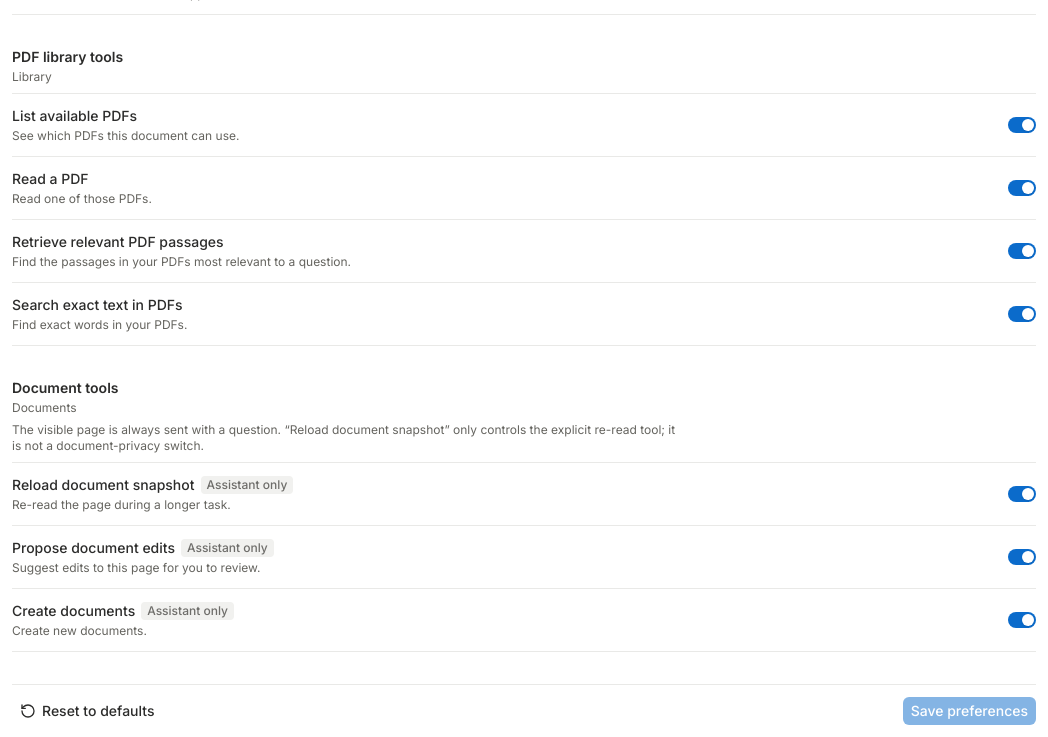
Test: skills and planning preferences › shows unmet tool dependencies immediately and resets feature defaults
This screenshot has width=1048, height=737.
(page scrolled)
What coordinates should you click on to do the following:
click the switch named "Reload document snapshot" in the row of "Re-read the page during a longer task."
I would click on:
 (1022, 494)
Its box is [1008, 486, 1036, 502].
(page scrolled)
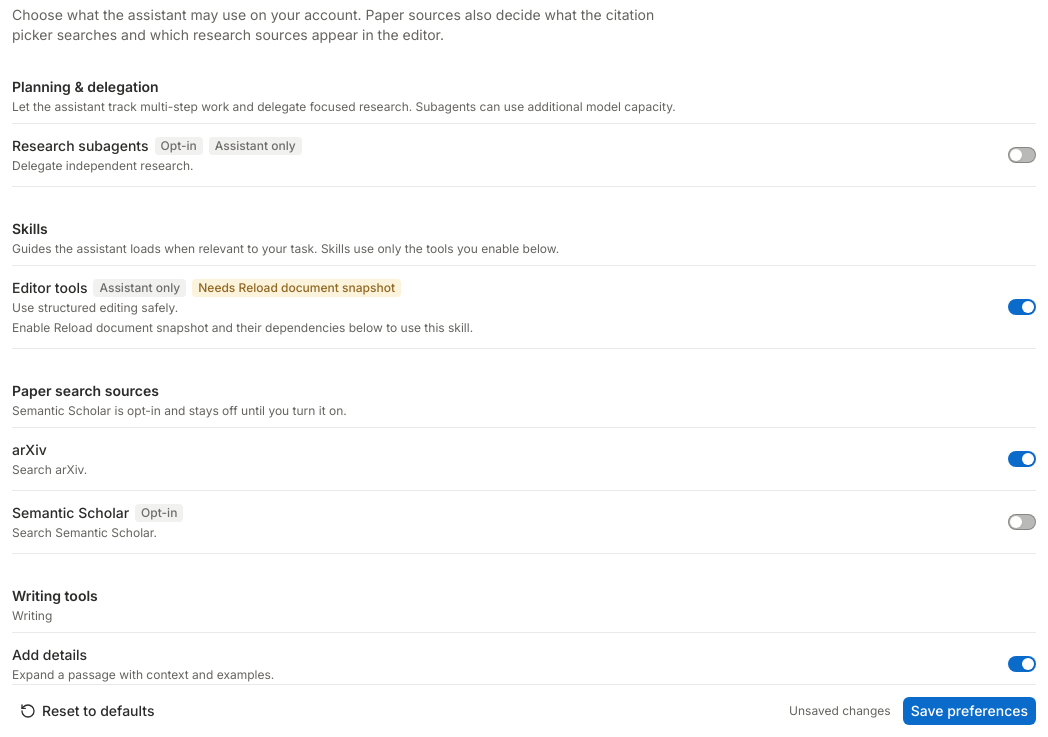
Now the text "Needs Reload document snapshot" is shown, box [192, 279, 401, 297]
What coordinates should you click on to do the following:
click the switch named "Research subagents" in the row of "Delegate independent research."
I would click on:
 (1022, 155)
Its box is [1008, 147, 1036, 163].
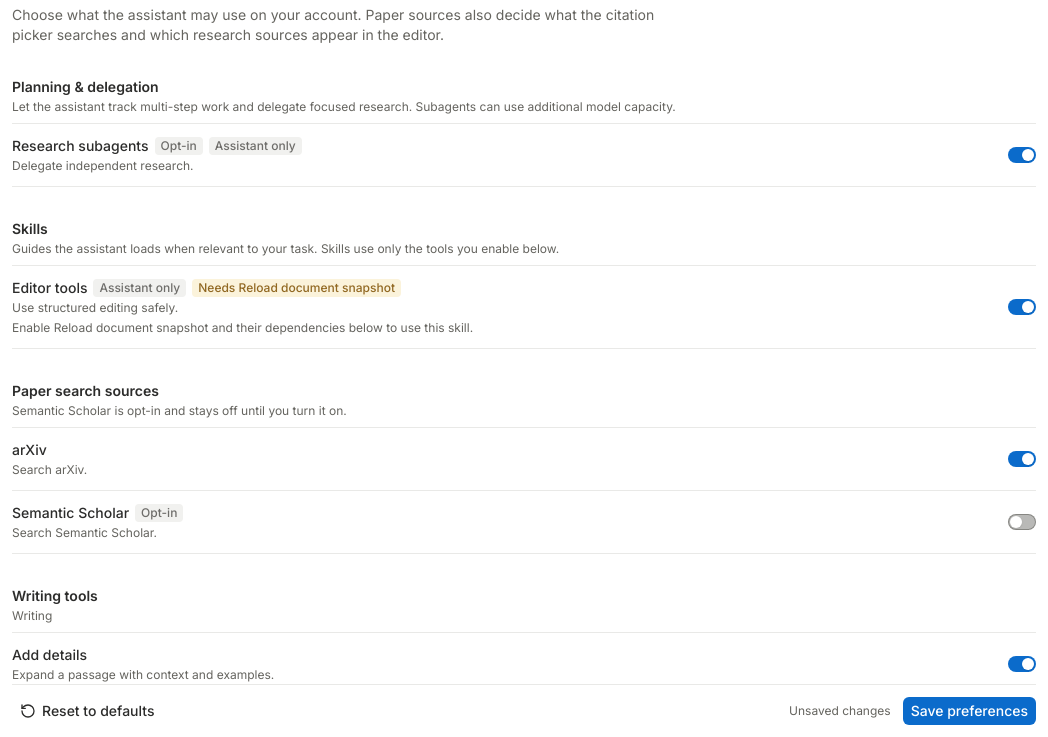
What coordinates should you click on to do the following:
click the button "Reset to defaults"
I would click on:
 (87, 711)
Its box is [12, 697, 162, 725].
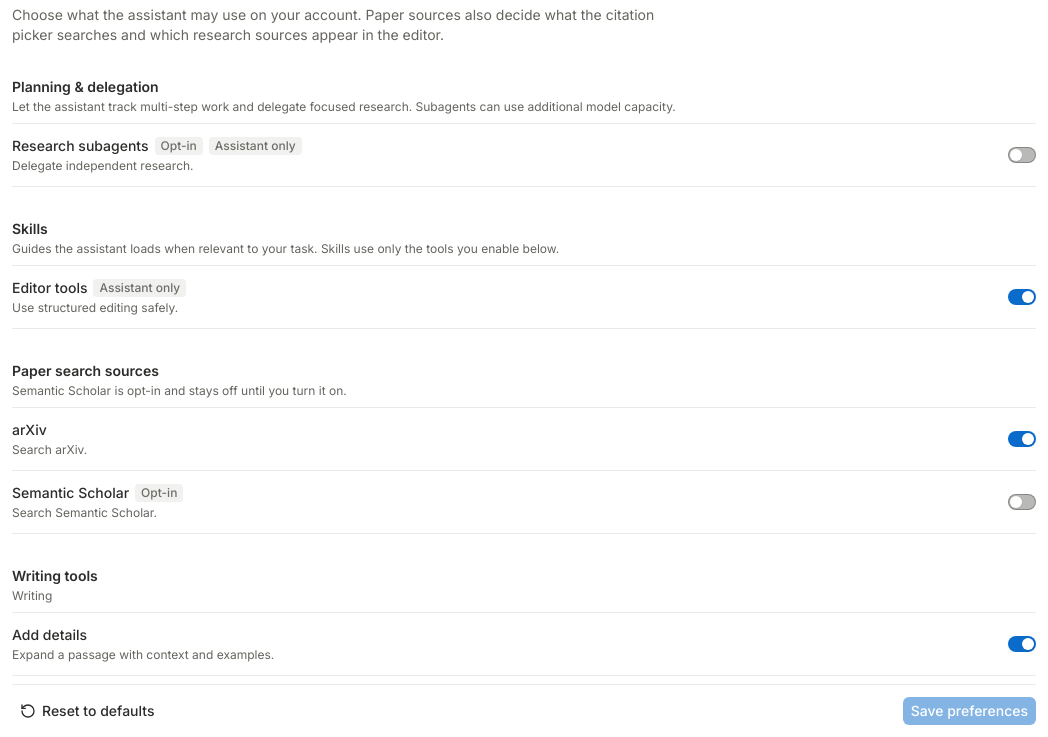
Now the text "Needs Reload document snapshot" is gone
